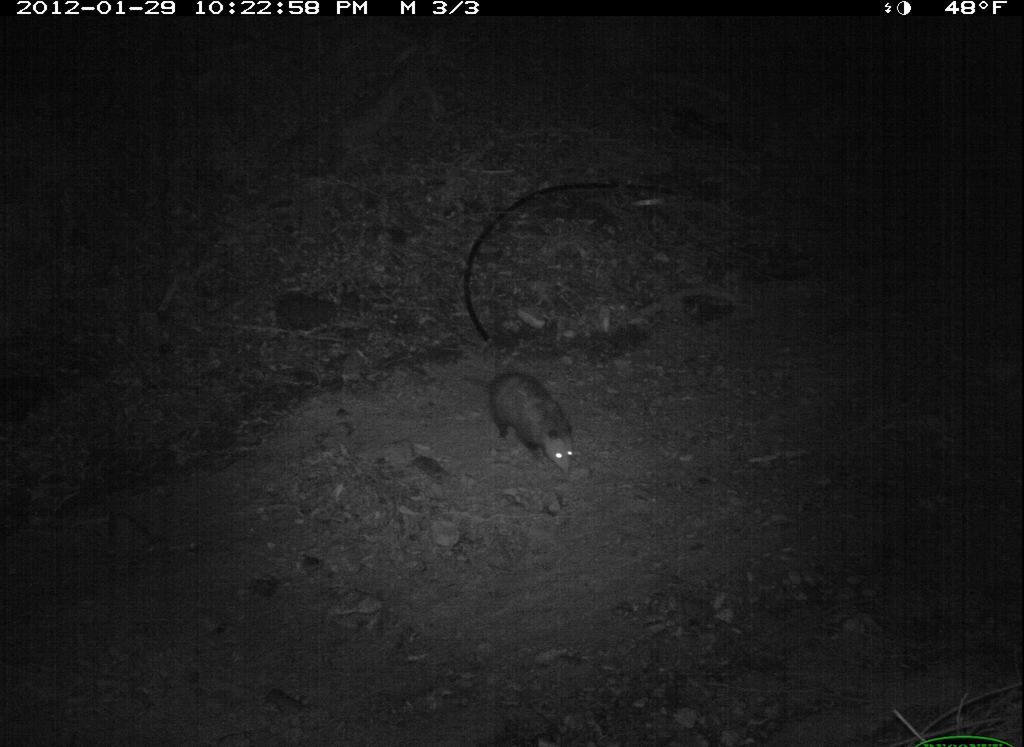opossum: (447, 347, 605, 483)
